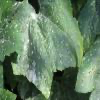Squash Powdery mildew leaf: (7, 0, 86, 100)
